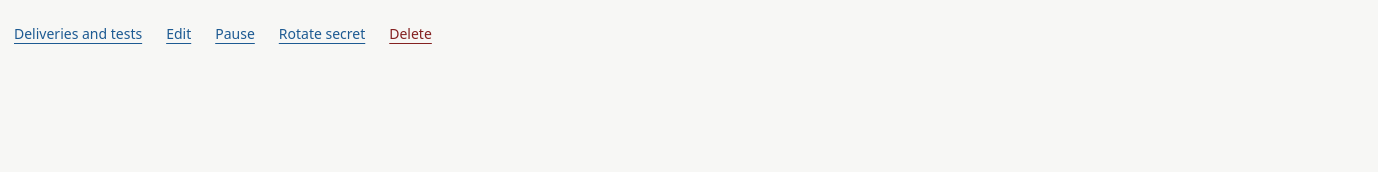
it: SubscriptionActions › explains {"kind":"gone"}
Click the button with aria-label "Pause LA Metro".
click(235, 34)  # box [213,12,257,56]
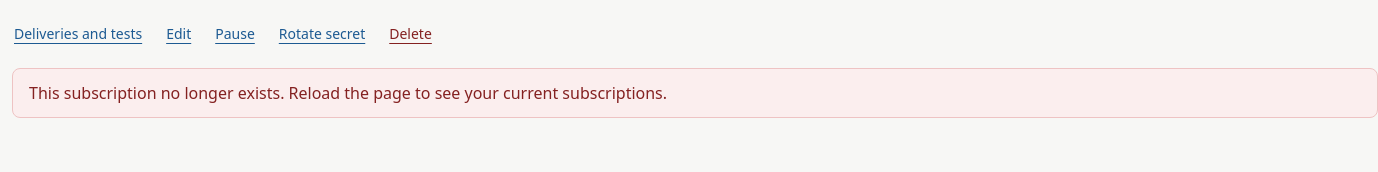
Now the message shows "no longer exists", box [29,82,667,104]
